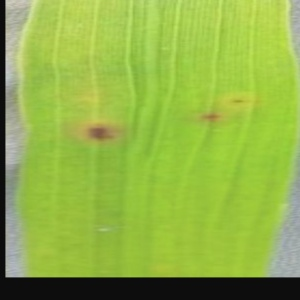Bacterial_Leaf_Blight: (82, 115, 127, 152), (221, 88, 261, 112), (191, 106, 225, 128)
